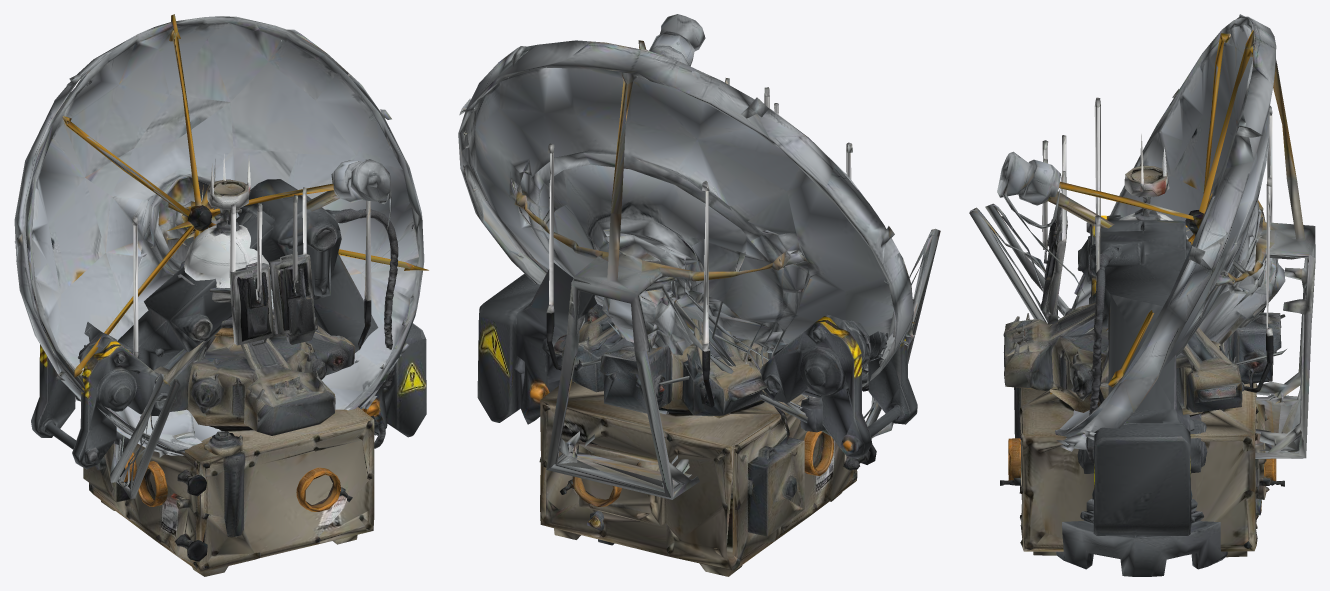
The model's file is station-props-exterior.glb.
3 renders of one model, left to right at view 1: azimuth 30°, elevation 25°; view 2: azimuth 150°, elevation 25°; view 3: azimuth 270°, elevation 25°, orthographic. The views are drawn at different scales.
Visible parts, largest first — view 1: prop_dish, prop_antenna, prop_arm, prop_thruster; view 2: prop_dish, prop_antenna, prop_arm, prop_thruster; view 3: prop_dish, prop_antenna, prop_arm, prop_thruster.
Boxes of the visible parts, bbox=[...] form: prop_dish: bbox=[14, 14, 428, 498]; prop_antenna: bbox=[83, 154, 374, 576]; prop_arm: bbox=[31, 179, 426, 469]; prop_thruster: bbox=[124, 452, 352, 511]; prop_dish: bbox=[458, 14, 940, 499]; prop_antenna: bbox=[539, 78, 876, 576]; prop_arm: bbox=[477, 263, 917, 545]; prop_thruster: bbox=[560, 431, 833, 506]; prop_dish: bbox=[969, 14, 1315, 458]; prop_antenna: bbox=[1003, 97, 1281, 557]; prop_arm: bbox=[1056, 215, 1261, 576]; prop_thruster: bbox=[1000, 438, 1284, 499].
Size of the model in its own units: 7.83 by 9 by 5.82.
Materials: 4 (4 with a texture image).
